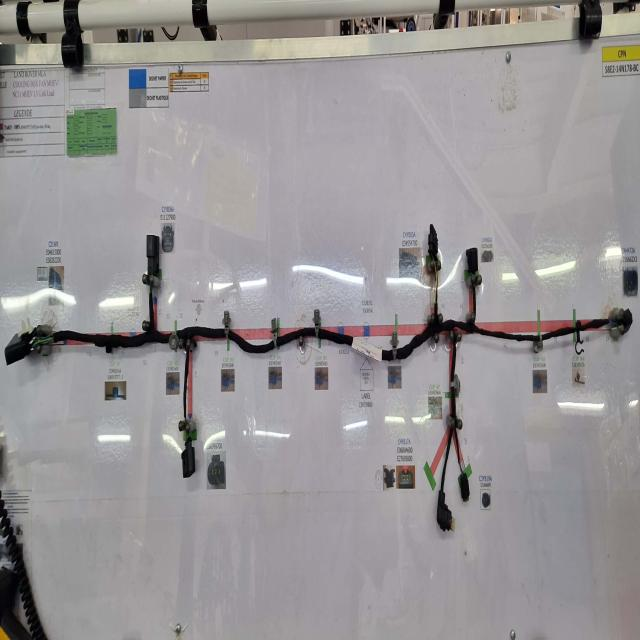Clip: (535, 319, 545, 353), (270, 316, 279, 350), (222, 309, 231, 340), (576, 317, 583, 354), (313, 305, 321, 335), (169, 329, 180, 350), (390, 330, 397, 362), (451, 376, 461, 396), (106, 333, 112, 354)
Connector: (437, 488, 455, 535), (5, 333, 30, 366), (181, 438, 196, 482), (146, 232, 159, 275), (428, 218, 438, 262), (460, 471, 470, 505), (467, 248, 478, 275), (622, 308, 632, 336)
Gape: (31, 332, 53, 351), (609, 312, 623, 332), (184, 415, 192, 440), (435, 255, 439, 303), (147, 272, 155, 293), (458, 458, 465, 477)
Info: (352, 336, 382, 363)
MHEV_N11_Cable: (53, 287, 615, 493)
